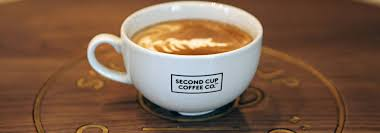cup: (81, 1, 267, 122)
